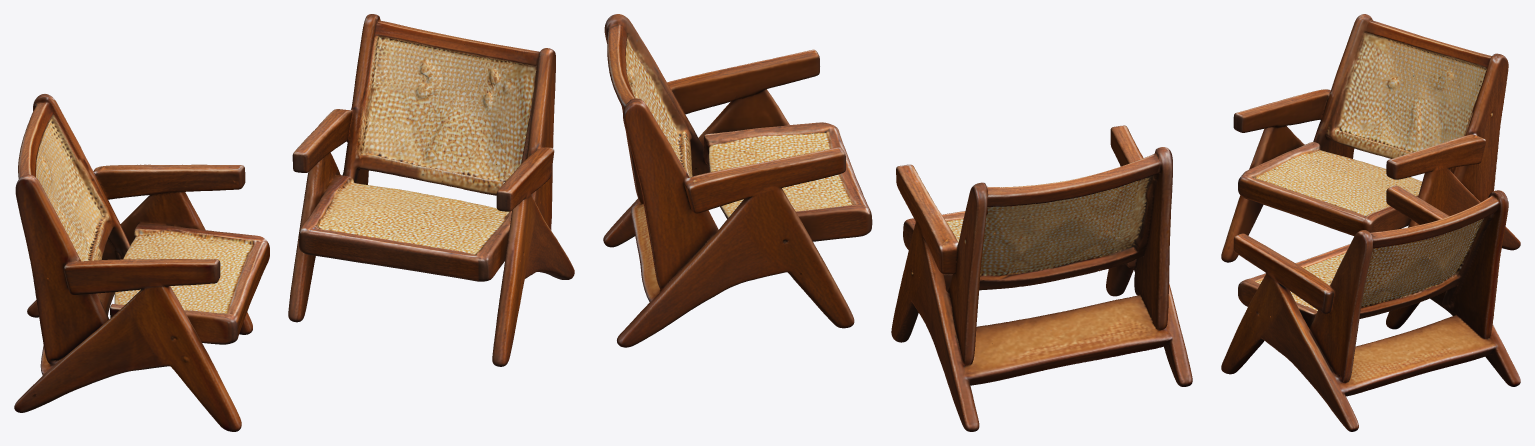
The model's file is wooden-lounge-chair.glb.
3 views of the same model, side by side, from view 1: azimuth 30°, elevation 25°; view 2: azimuth 150°, elevation 25°; view 3: azimuth 270°, elevation 25° (orthographic). The views are drawn at different scales.
Parts seen in each view (by area): view 1: tripo_node_6cb024c1-50b9-4063-9457-cb636e82d450; view 2: tripo_node_6cb024c1-50b9-4063-9457-cb636e82d450; view 3: tripo_node_6cb024c1-50b9-4063-9457-cb636e82d450.
Part boxes in pixels (bbox=[...]): tripo_node_6cb024c1-50b9-4063-9457-cb636e82d450: bbox=[14, 14, 574, 431]; tripo_node_6cb024c1-50b9-4063-9457-cb636e82d450: bbox=[603, 14, 1192, 431]; tripo_node_6cb024c1-50b9-4063-9457-cb636e82d450: bbox=[1221, 14, 1520, 431].
Size of the model in its own units: 1 by 0.3896 by 0.5436.
1 material, 1 textured.
